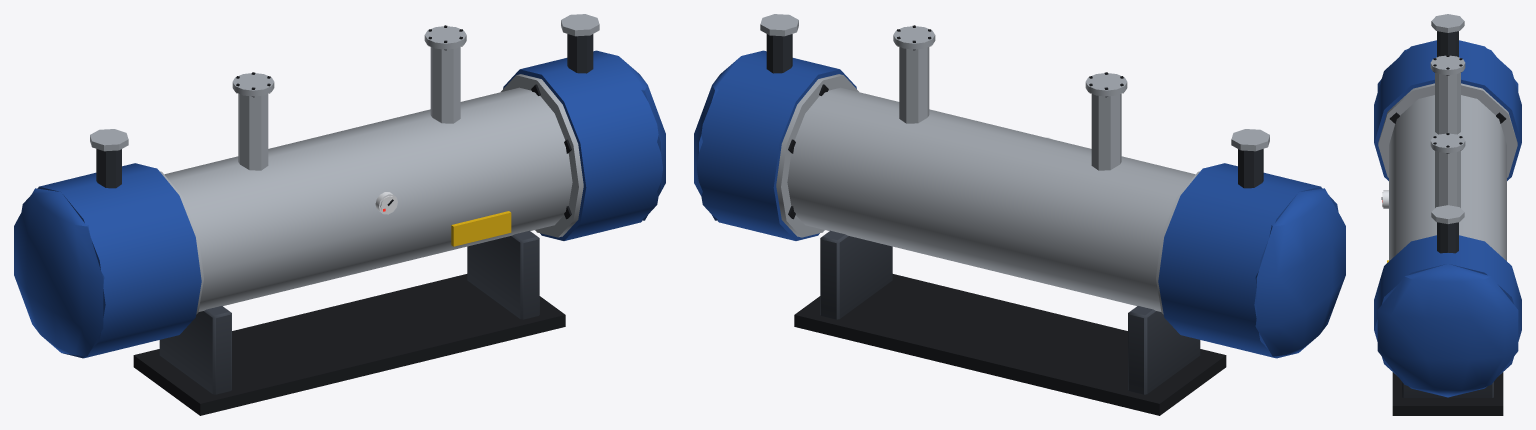
File: tank_shell_and_tube_heat_exchanger.glb
3 renders of one model, left to right at view 1: azimuth 30°, elevation 25°; view 2: azimuth 150°, elevation 25°; view 3: azimuth 270°, elevation 25°, orthographic. The views are drawn at different scales.
Parts seen in each view (by area): view 1: tank_shell_and_tube_heat_exchanger; view 2: tank_shell_and_tube_heat_exchanger; view 3: tank_shell_and_tube_heat_exchanger.
Boxes of the visible parts, left/top/right/bottom form: tank_shell_and_tube_heat_exchanger: left=14, top=14, right=665, bottom=415; tank_shell_and_tube_heat_exchanger: left=694, top=14, right=1345, bottom=415; tank_shell_and_tube_heat_exchanger: left=1374, top=14, right=1521, bottom=415.
Size of the model in its own units: 3.12 by 1.44 by 0.8.
